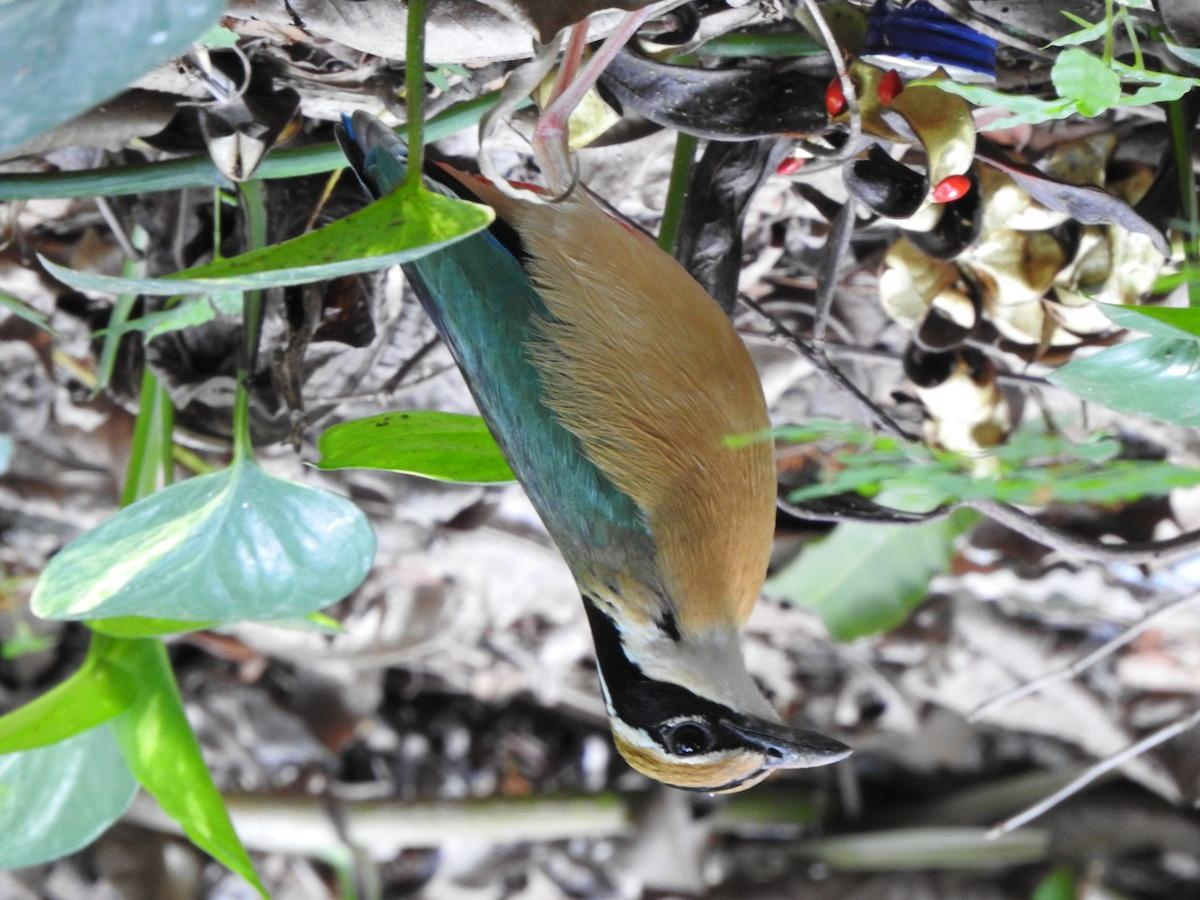pitta: (349, 94, 880, 790)
